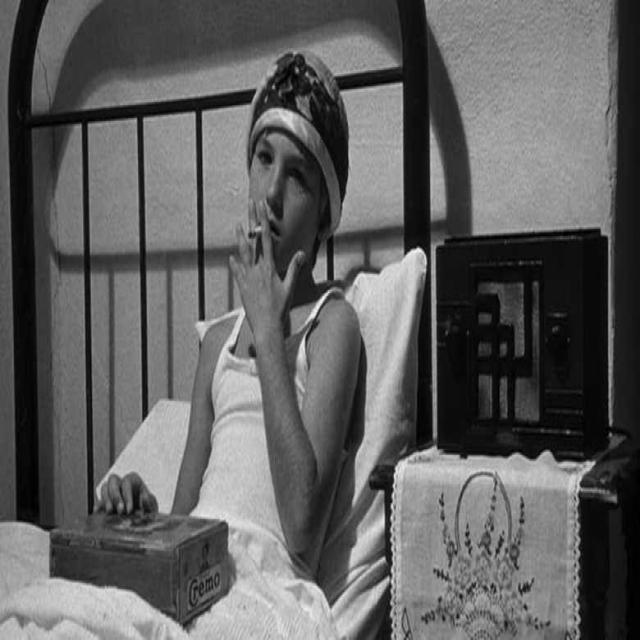Smooking: (241, 210, 271, 252)
